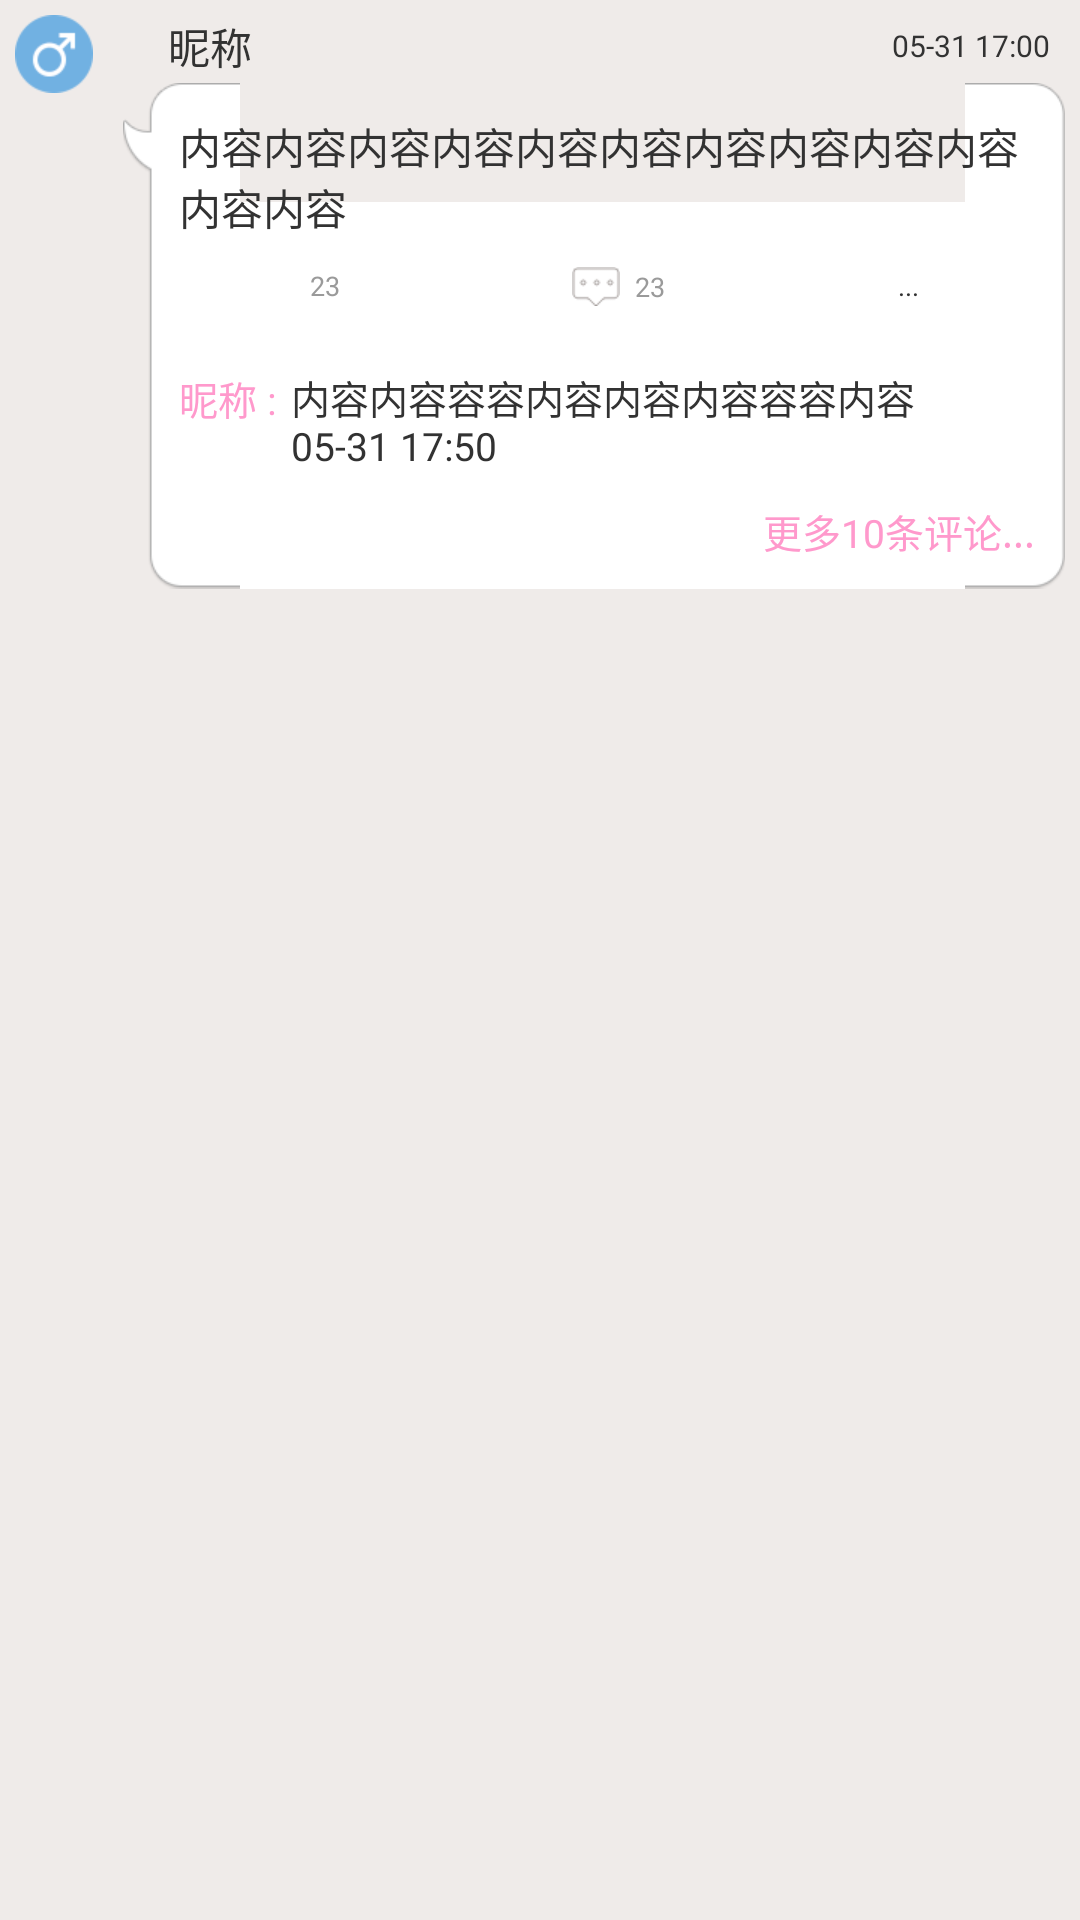

Where to tap for icons on this 1080*1920 app screen, as point (x, y):
boy: point (54, 54)
reply: point (596, 286)
